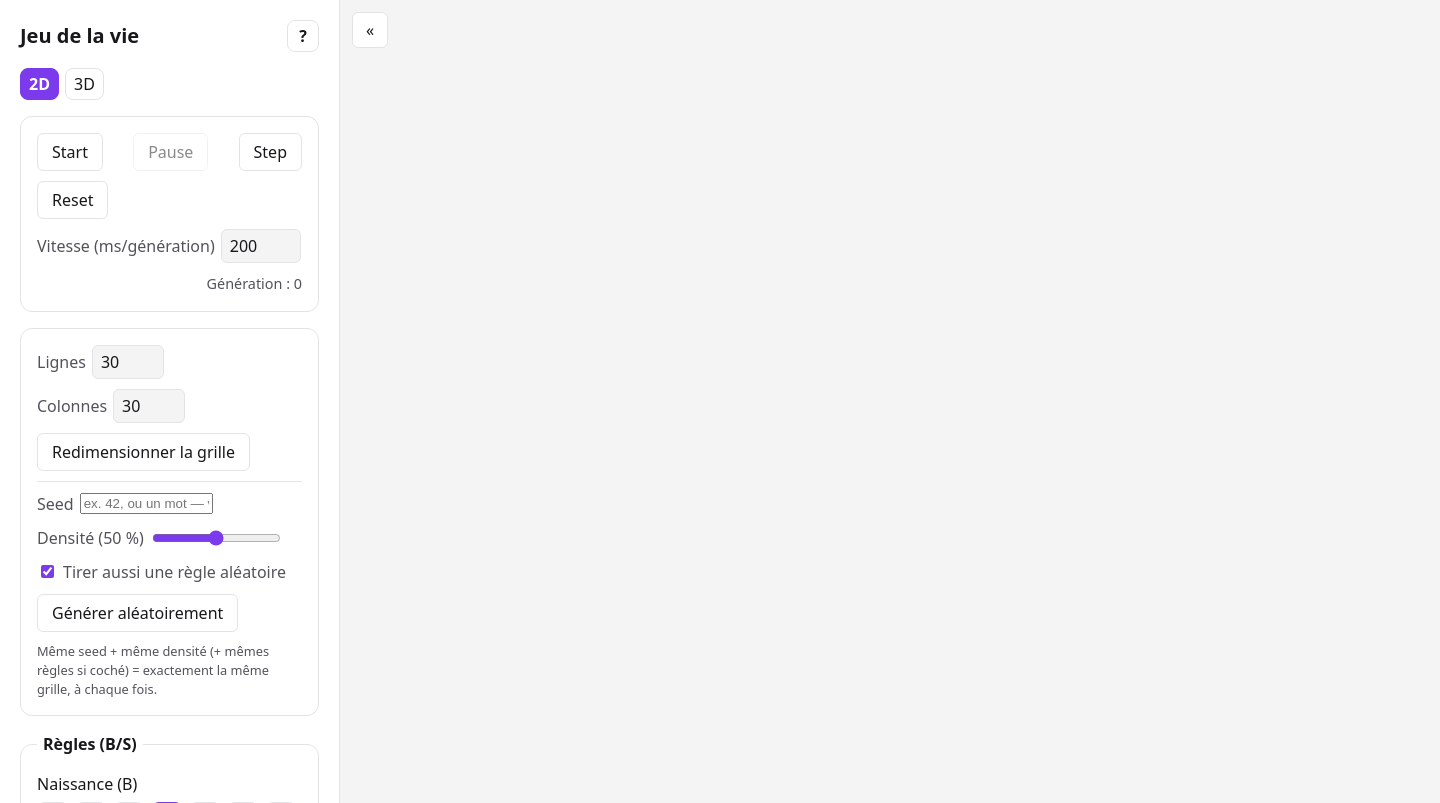
Test case: App › opens and closes the help modal, without the 3D section while in 2D
This screenshot has width=1440, height=803.
Expected: the text "règles de naissance et de survie" is not shown
Click the button named "Aide" at (303, 36), box [287,20,319,52]
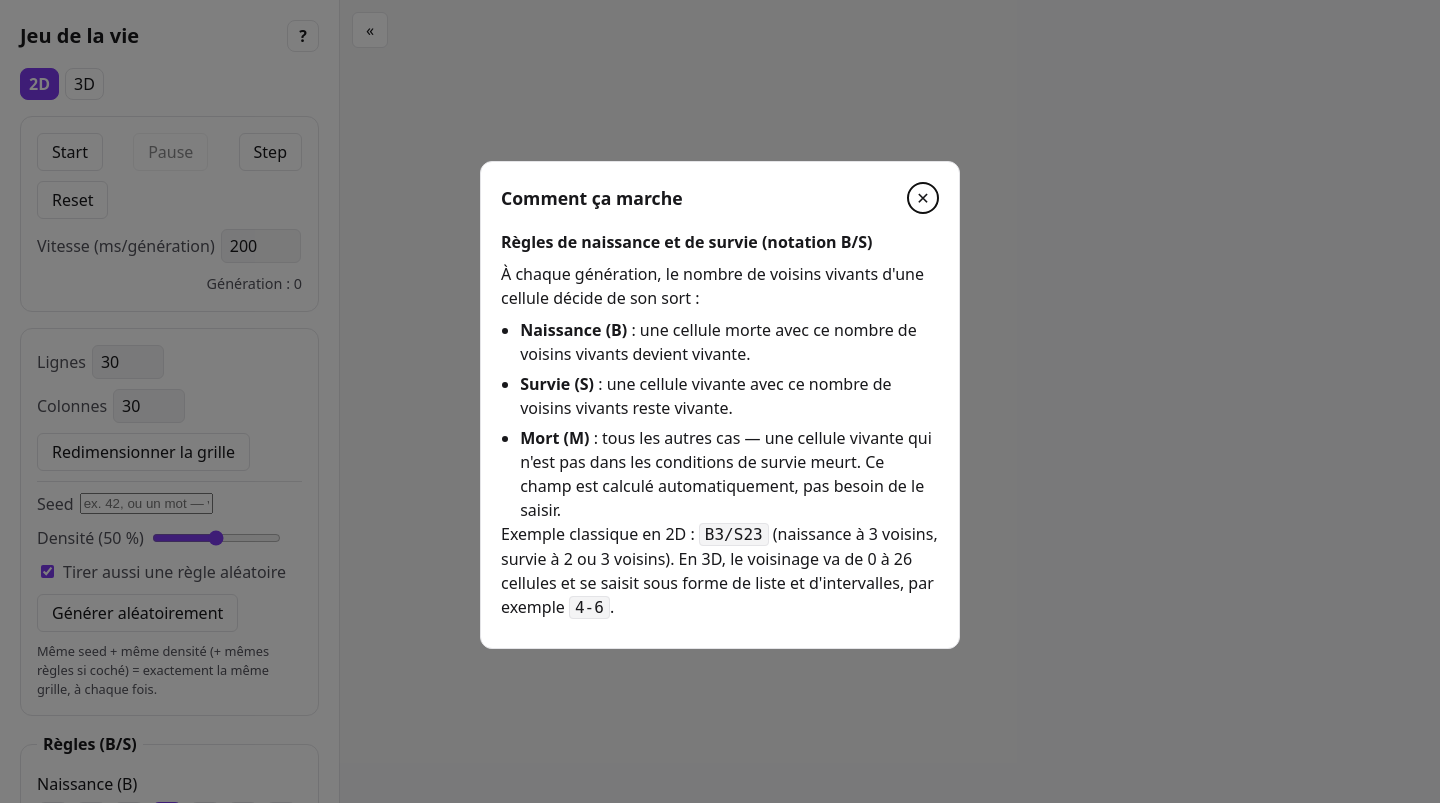
Result: the heading "Règles de naissance et de survie (notation B/S)" is shown at [501,231,872,253]
Click the button named "Fermer l'aide" at (923, 198), box [907,182,939,214]
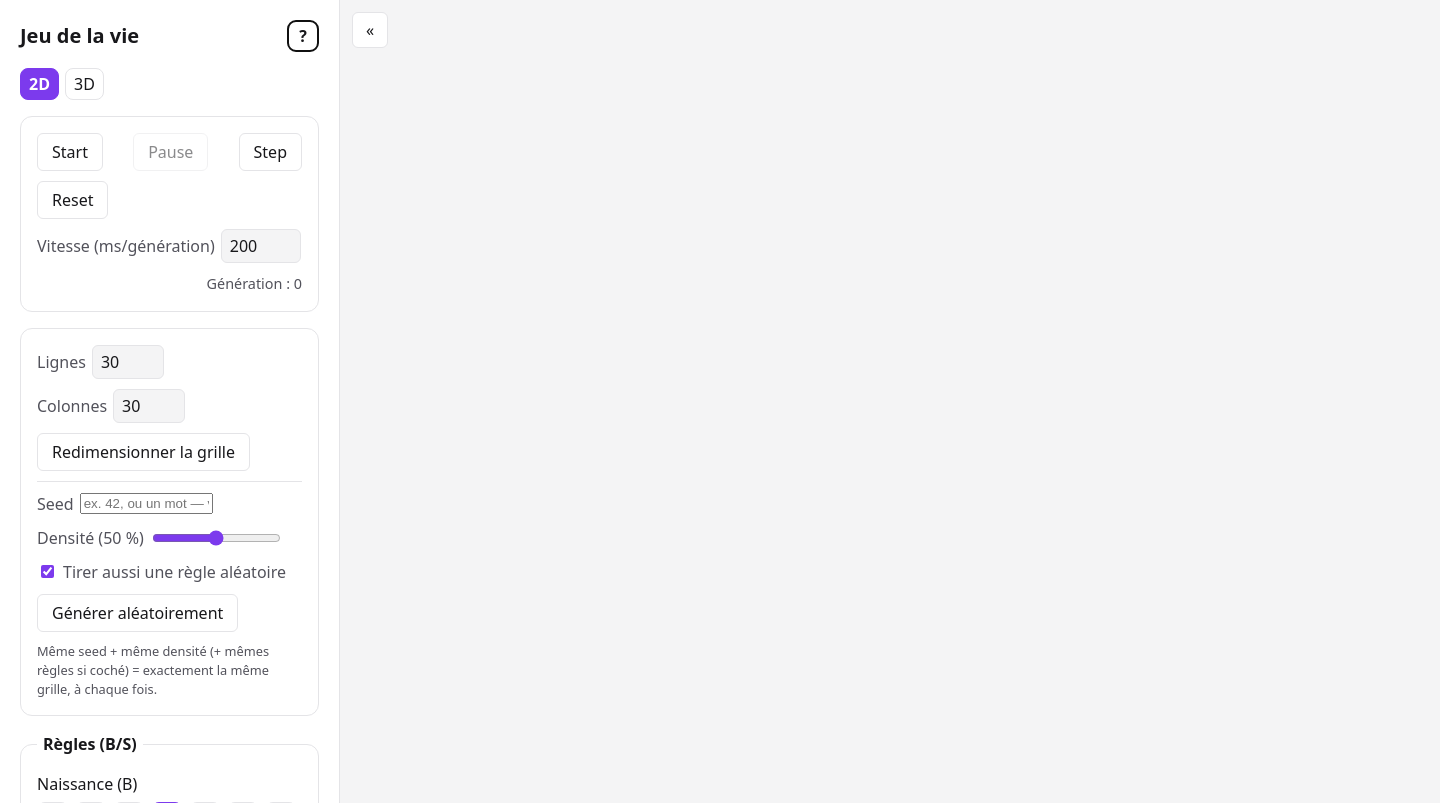
Result: the heading "Règles de naissance et de survie" is gone
